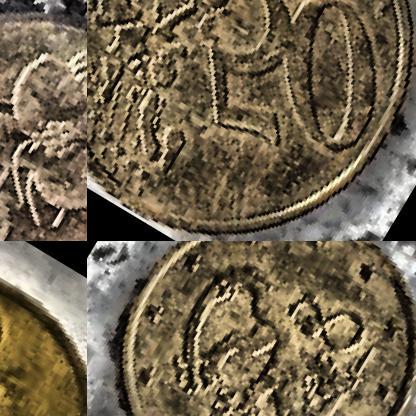coin: (87, 0, 415, 240), (87, 241, 415, 415), (0, 0, 86, 240), (0, 241, 86, 415)
